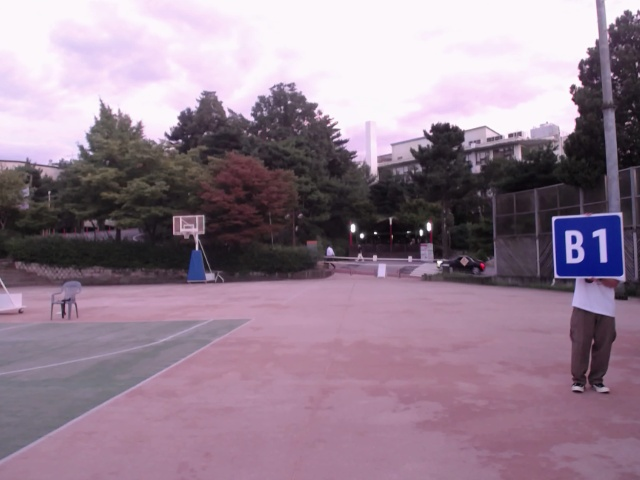delivery_b1: (552, 213, 624, 279)
